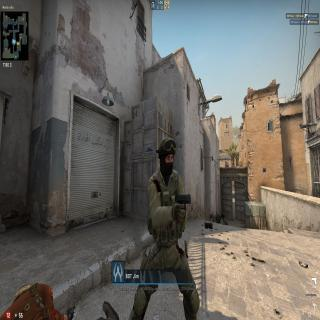CT-Head: (156, 134, 177, 179)
